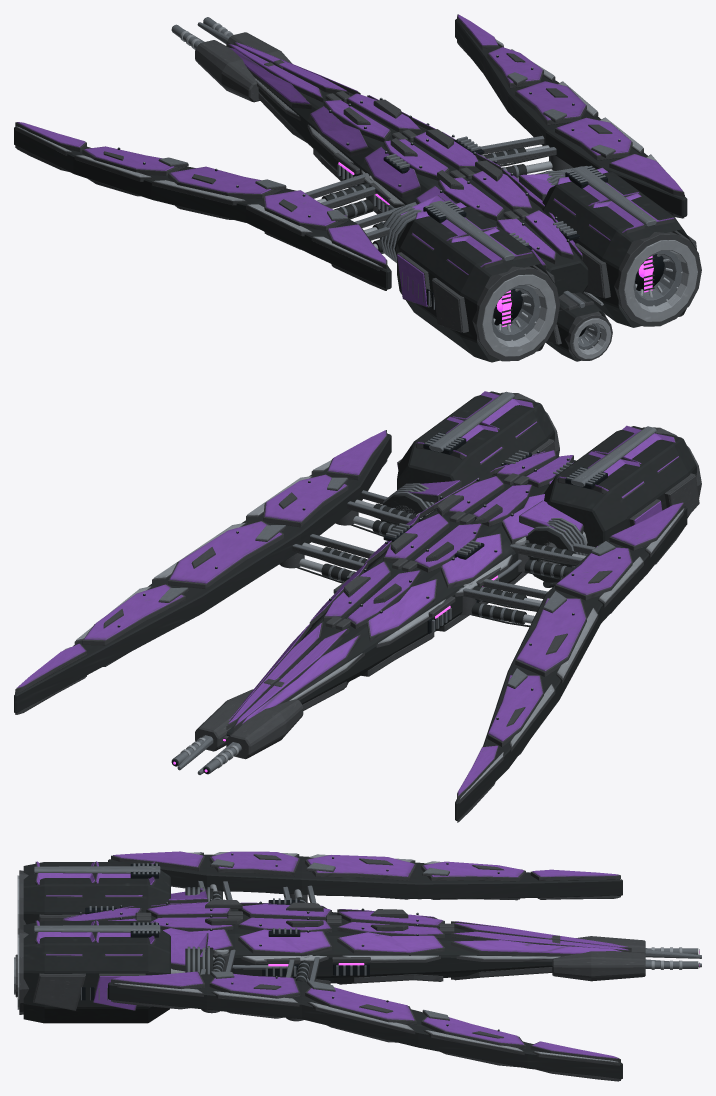
File: ravager.glb
The picture shows the model from 3 angles, top to bottom: view 1: azimuth 30°, elevation 25°; view 2: azimuth 150°, elevation 25°; view 3: azimuth 270°, elevation 25°; orthographic projection. The views are drawn at different scales.
Parts seen in each view (by area): view 1: Ravager.001; view 2: Ravager.001; view 3: Ravager.001.
Boxes of the visible parts, x1,y1,x2,y2 form: Ravager.001: [14, 14, 701, 362]; Ravager.001: [14, 391, 701, 822]; Ravager.001: [14, 851, 701, 1081].
Bounding box in the file's own units: 7.97 × 2.02 × 12.54.
7 materials, 7 textured.
